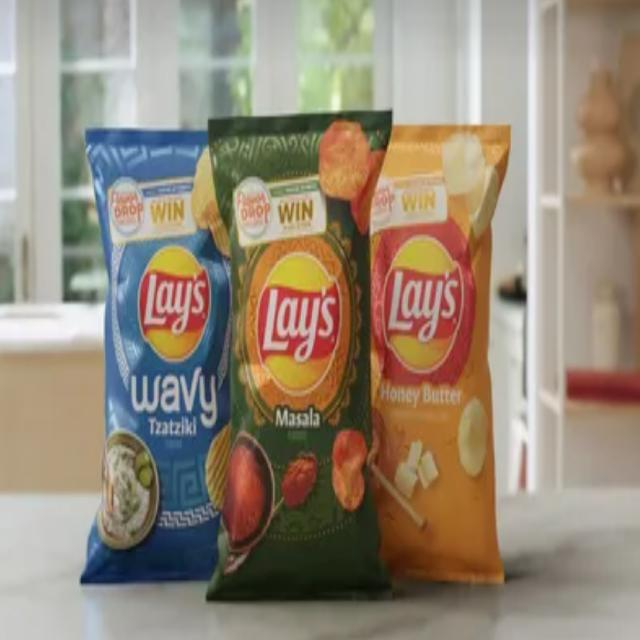supermarket-product: (256, 268, 354, 388)
